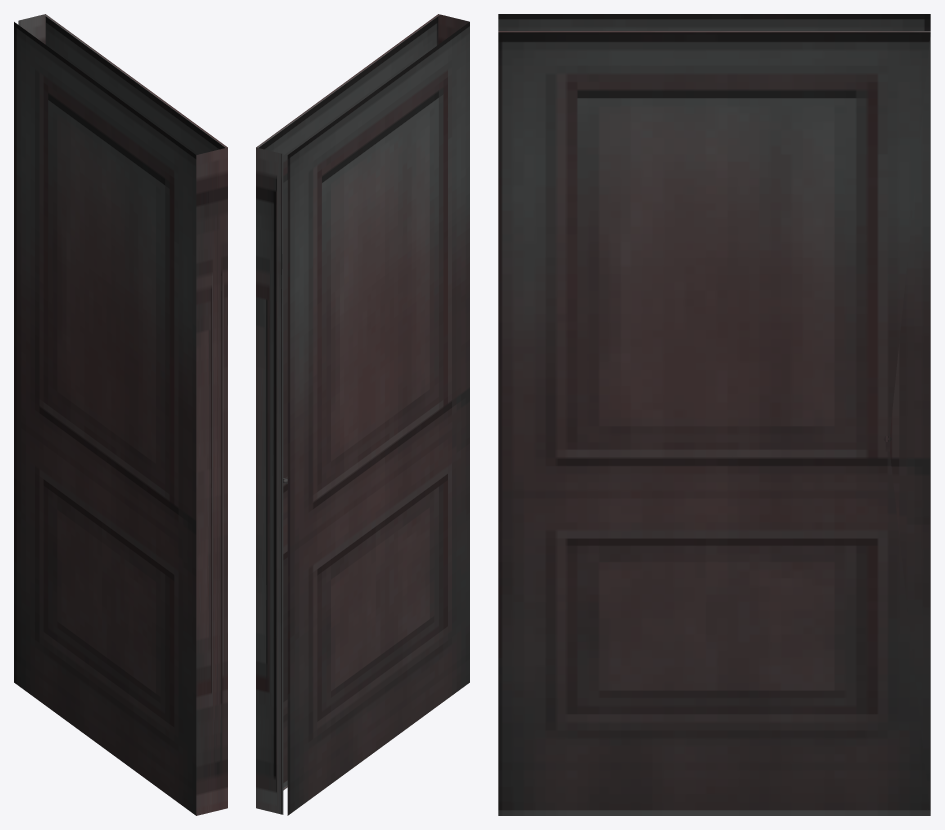
Rendered from door3.fbx.
3 renders of one model, left to right at view 1: azimuth 30°, elevation 25°; view 2: azimuth 150°, elevation 25°; view 3: azimuth 270°, elevation 25°, orthographic. The views are drawn at different scales.
Parts seen in each view (by area): view 1: door; view 2: door; view 3: door.
Part boxes in pixels (<box>): door: <box>14,14,227,815</box>; door: <box>256,14,469,815</box>; door: <box>498,14,930,815</box>.
Size of the model in its own units: 0.1 by 1 by 2.
Materials: 1 (1 with a texture image).
